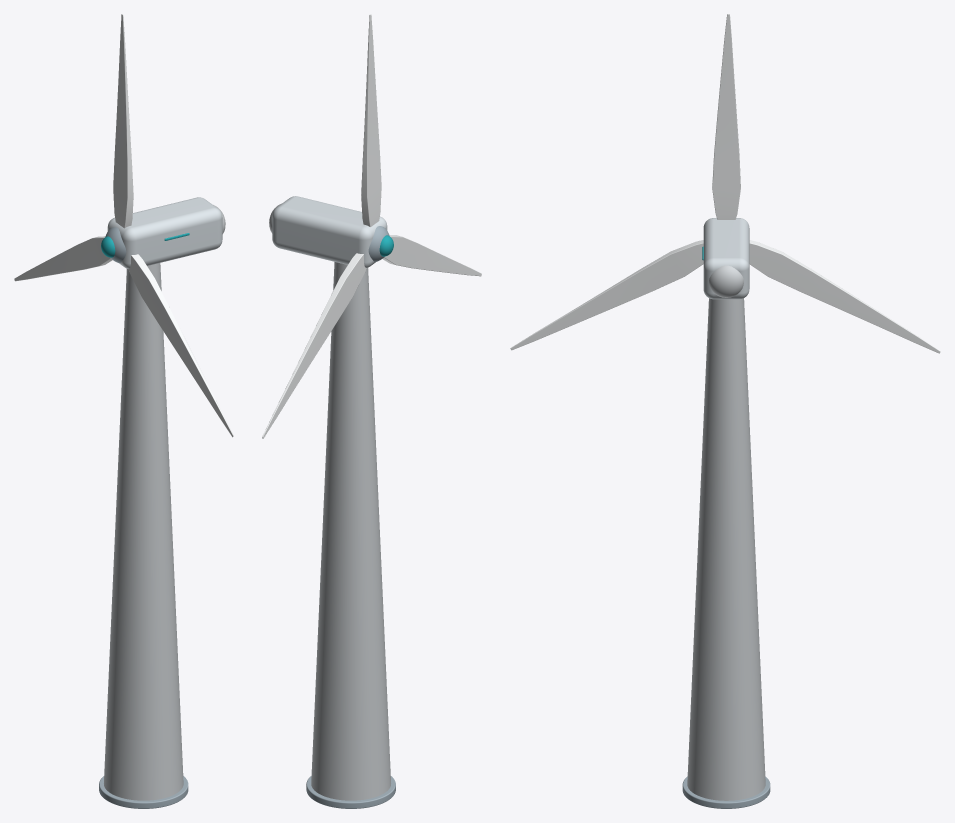
File: wind_turbine.glb
3 views of the same model, side by side, from view 1: azimuth 30°, elevation 25°; view 2: azimuth 150°, elevation 25°; view 3: azimuth 270°, elevation 25° (orthographic).
Visible parts, largest first — view 1: Tower, Nacelle, Blade_1, Blade_2, Blade_3, Tower_Base_Flange, Rotor_Hub; view 2: Tower, Nacelle, Blade_1, Blade_3, Blade_2, Tower_Base_Flange, Rotor_Hub; view 3: Tower, Blade_3, Blade_2, Blade_1, Nacelle, Tower_Base_Flange, Generator_Housing_Cap.
Part boxes in pixels (x1=…): Tower: x1=104, y1=263, x2=183, y2=800; Nacelle: x1=107, y1=197, x2=222, y2=268; Blade_1: x1=113, y1=14, x2=133, y2=228; Blade_2: x1=128, y1=254, x2=233, y2=437; Blade_3: x1=14, y1=236, x2=112, y2=281; Tower_Base_Flange: x1=99, y1=776, x2=188, y2=808; Rotor_Hub: x1=105, y1=227, x2=126, y2=263; Tower: x1=311, y1=262, x2=390, y2=800; Nacelle: x1=272, y1=196, x2=387, y2=267; Blade_1: x1=361, y1=14, x2=381, y2=226; Blade_3: x1=262, y1=253, x2=366, y2=438; Blade_2: x1=382, y1=235, x2=481, y2=276; Tower_Base_Flange: x1=306, y1=776, x2=395, y2=808; Rotor_Hub: x1=368, y1=226, x2=389, y2=262; Tower: x1=687, y1=298, x2=765, y2=800; Blade_3: x1=749, y1=240, x2=940, y2=353; Blade_2: x1=510, y1=240, x2=703, y2=350; Blade_1: x1=712, y1=14, x2=740, y2=219; Nacelle: x1=703, y1=218, x2=749, y2=299; Tower_Base_Flange: x1=682, y1=776, x2=770, y2=808; Generator_Housing_Cap: x1=709, y1=265, x2=743, y2=297.
Bounding box in the file's own units: 5.32 × 33.2 × 16.84.
